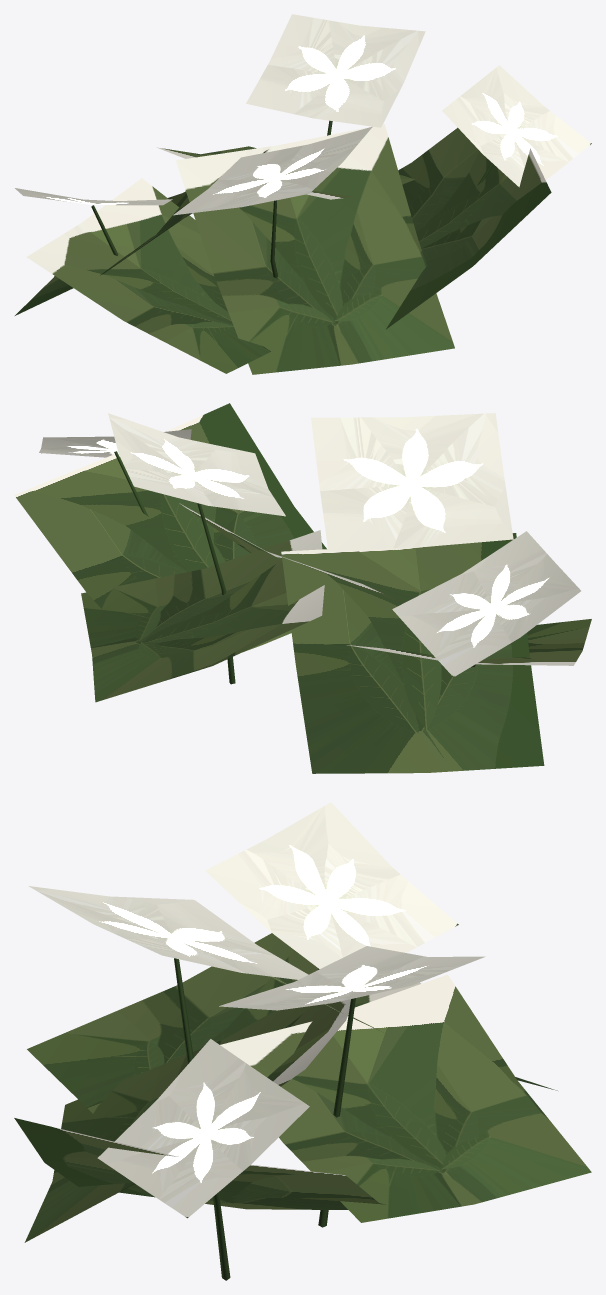
File: CaveFlowers_B_Fan.fbx
3 views of the same model, one above another, from view 1: azimuth 30°, elevation 25°; view 2: azimuth 150°, elevation 25°; view 3: azimuth 270°, elevation 25° (orthographic). The views are drawn at different scales.
Parts seen in each view (by area): view 1: CaveFlowers_B_Fan; view 2: CaveFlowers_B_Fan; view 3: CaveFlowers_B_Fan.
Boxes of the visible parts, x1=… form: CaveFlowers_B_Fan: x1=15, y1=14, x2=591, y2=374; CaveFlowers_B_Fan: x1=14, y1=403, x2=591, y2=773; CaveFlowers_B_Fan: x1=14, y1=802, x2=591, y2=1280.
Bounding box in the file's own units: 0.4112 × 0.1612 × 0.2846.
Materials: 1 (1 with a texture image).
